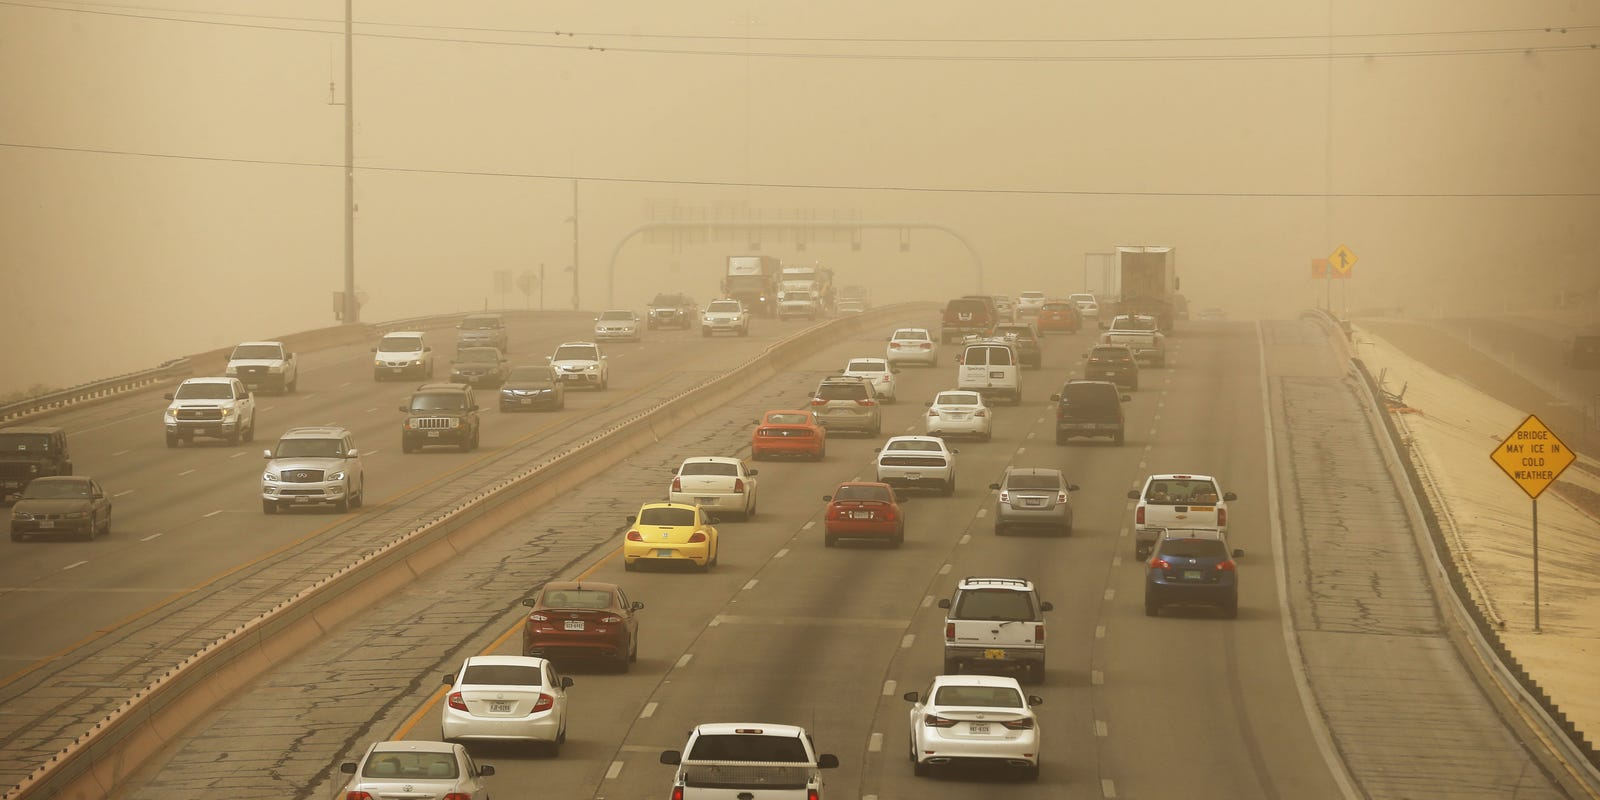car: (908, 675, 1046, 778), (936, 576, 1053, 687), (442, 652, 575, 748), (518, 572, 645, 673), (670, 720, 826, 799), (256, 429, 367, 513), (336, 740, 492, 799), (1127, 472, 1233, 556), (1141, 534, 1241, 618), (7, 476, 117, 542), (620, 501, 722, 570), (162, 376, 258, 445), (395, 382, 480, 453), (668, 456, 761, 519), (820, 481, 907, 548), (2, 425, 71, 502), (991, 467, 1075, 531), (873, 435, 958, 497), (1051, 379, 1127, 447), (748, 410, 829, 460), (227, 341, 300, 395), (960, 340, 1020, 400), (923, 390, 994, 439), (1101, 315, 1165, 367), (495, 367, 567, 412), (547, 341, 608, 388), (370, 332, 429, 381), (990, 324, 1045, 370), (1084, 345, 1139, 389), (448, 348, 507, 389), (887, 326, 937, 369), (941, 299, 992, 340), (452, 313, 507, 351), (697, 299, 750, 336), (647, 292, 692, 329), (595, 307, 639, 342), (1037, 301, 1074, 335), (777, 289, 812, 319), (1070, 291, 1101, 318), (1016, 291, 1044, 314), (1196, 305, 1228, 320)
person: (1118, 240, 1174, 333), (722, 258, 780, 314), (774, 256, 830, 303), (1087, 252, 1119, 318)
